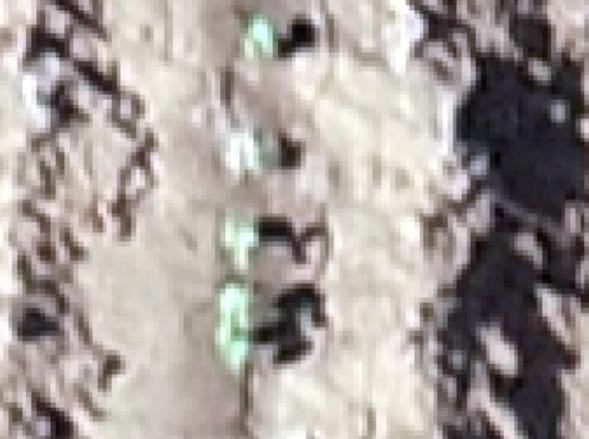cotton: (225, 224, 257, 256), (218, 281, 250, 312), (215, 316, 246, 348), (238, 136, 267, 168), (250, 17, 274, 51), (226, 336, 246, 364)
